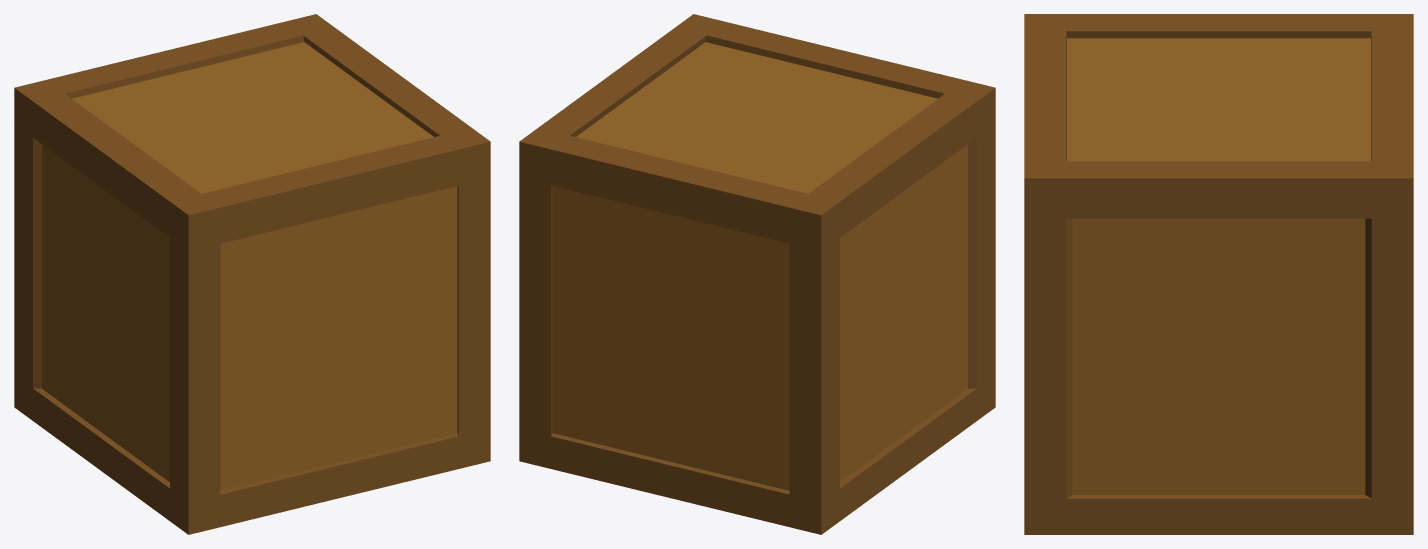
File: crateBox.fbx
The picture shows the model from 3 angles, left to right: view 1: azimuth 30°, elevation 25°; view 2: azimuth 150°, elevation 25°; view 3: azimuth 270°, elevation 25°; orthographic projection. The views are drawn at different scales.
Visible parts, largest first — view 1: Crate Empty, Crate Lid; view 2: Crate Empty, Crate Lid; view 3: Crate Empty, Crate Lid.
Part boxes in pixels (x1,y1,x2,y2): Crate Empty: (14, 120, 490, 534); Crate Lid: (14, 14, 490, 247); Crate Empty: (519, 120, 995, 534); Crate Lid: (519, 14, 995, 247); Crate Empty: (1024, 215, 1413, 534); Crate Lid: (1024, 14, 1413, 214).
Bounding box in the file's own units: 19.63 × 19.63 × 19.84.
